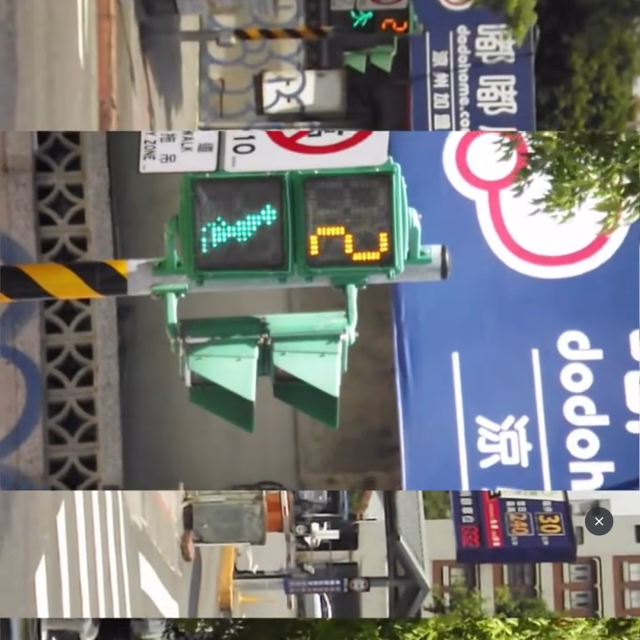green_light: (183, 173, 404, 277), (340, 11, 410, 36)
